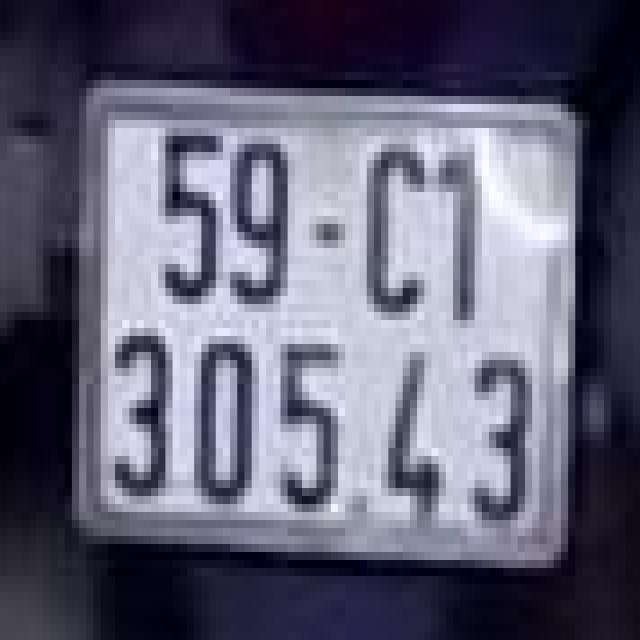0: (190, 316, 262, 516)
1: (435, 128, 478, 336)
3: (100, 312, 172, 504), (464, 348, 536, 532)
4: (378, 344, 450, 528)
5: (270, 316, 363, 508), (148, 116, 226, 300)
9: (227, 108, 291, 316)
C: (352, 132, 446, 332)
